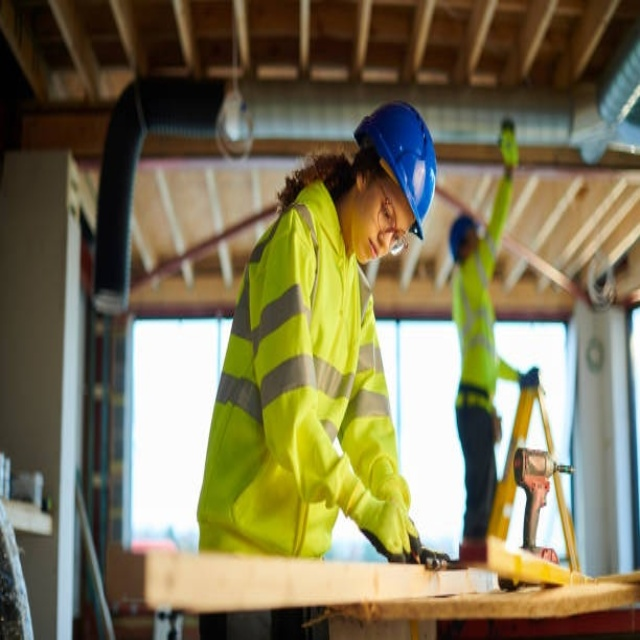Gafas: (373, 169, 410, 261)
Guantes: (348, 457, 422, 561)
Sin_mascara: (357, 226, 383, 268)
